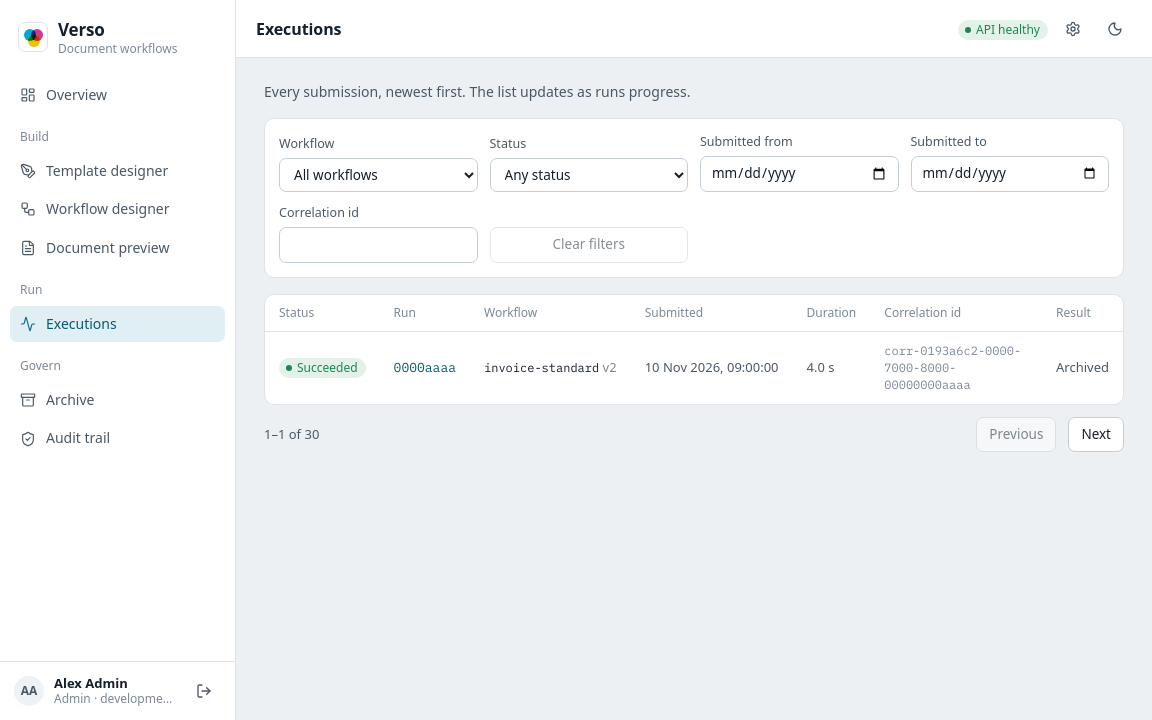
Test: Execution list › pages through results
Expected: the text "1–1 of 30" is shown, [264,425,319,444]
Expected: the button "Previous" is disabled, [976,417,1056,452]
Click the button "Next": (1096, 435) [1068,417,1124,452]
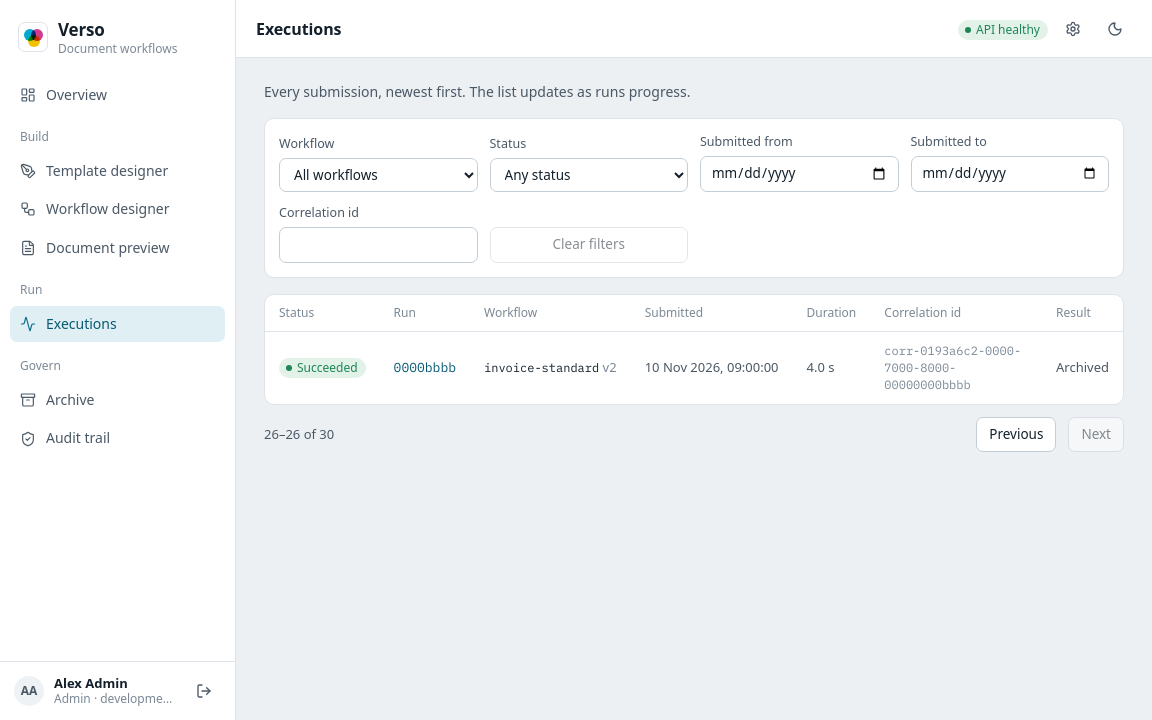
Now the text "26–26 of 30" is shown, box [264,425,334,444]
Now the button "Next" is disabled, box [1068,417,1124,452]
